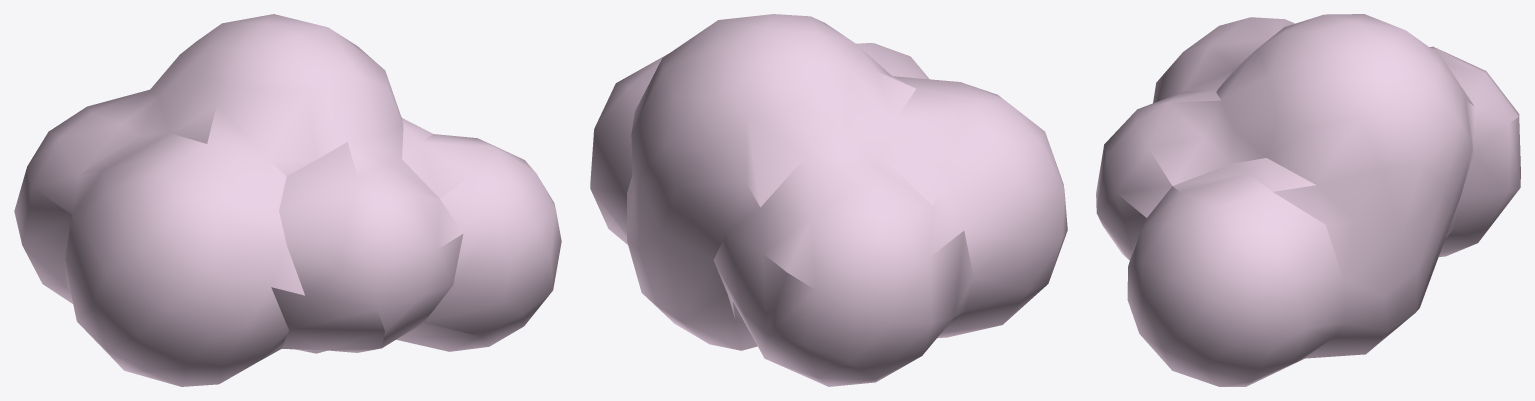
The model's file is cloud3.fbx.
The picture shows the model from 3 angles, left to right: view 1: azimuth 30°, elevation 25°; view 2: azimuth 150°, elevation 25°; view 3: azimuth 270°, elevation 25°; orthographic projection. The views are drawn at different scales.
Visible parts, largest first — view 1: wolk3; view 2: wolk3; view 3: wolk3.
Part boxes in pixels (x1=…): wolk3: x1=14, y1=14, x2=561, y2=386; wolk3: x1=590, y1=14, x2=1067, y2=386; wolk3: x1=1096, y1=14, x2=1520, y2=386.
Size of the model in its own units: 110 by 74.71 by 92.97.
